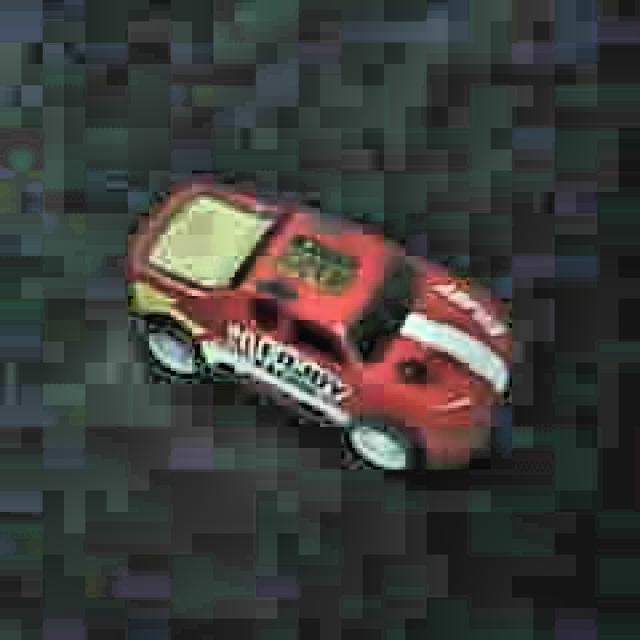car: (123, 175, 514, 480)
